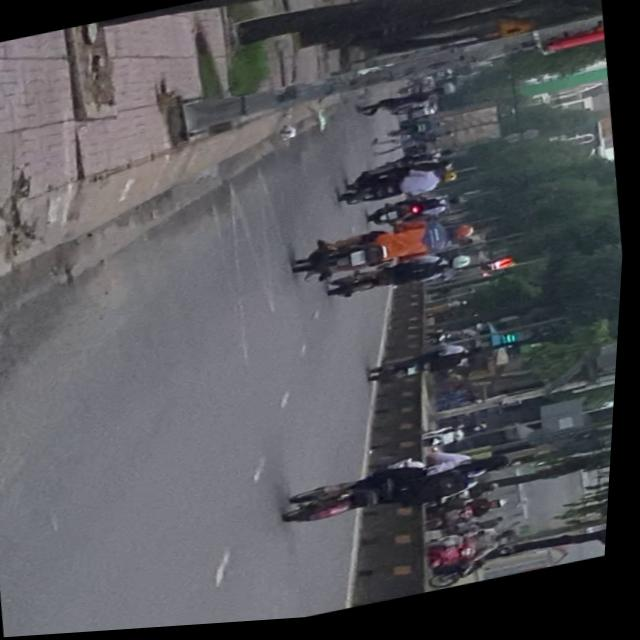licenseplate: (285, 441, 534, 540)
motorcyclist: (481, 457, 520, 486)
